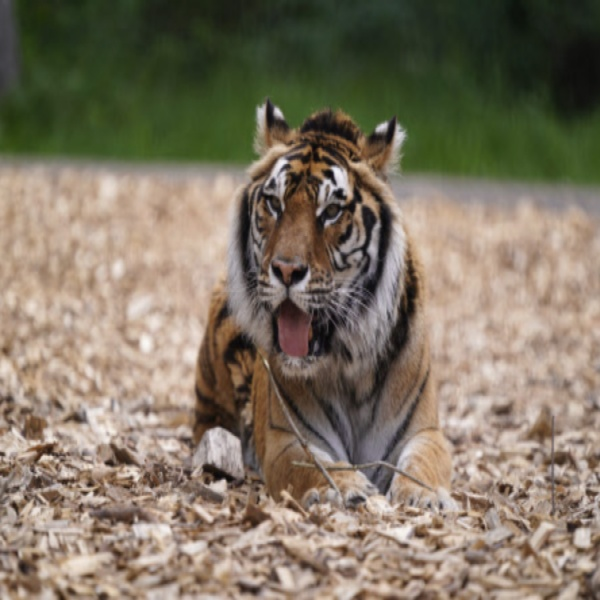Tiger: (191, 91, 456, 538)
